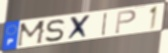1: (149, 4, 161, 31)
I: (101, 11, 109, 37)
M: (16, 19, 48, 48)
P: (114, 9, 138, 35)
S: (44, 18, 66, 43)
X: (66, 13, 93, 41)
